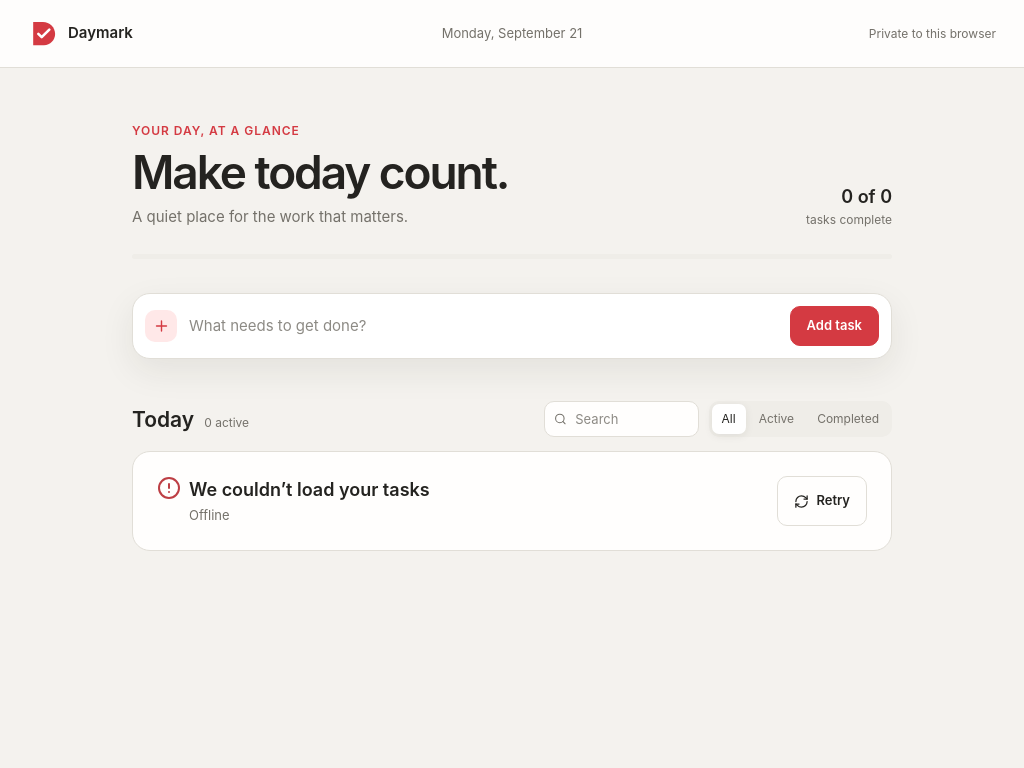
Test case: App › shows a recoverable load error and retries
The width and height of the screenshot is (1024, 768).
Expected: the message shows "Offline", [189,507,230,523]
Click the button "Retry". click: click(822, 501)
box: [777,476,867,526]
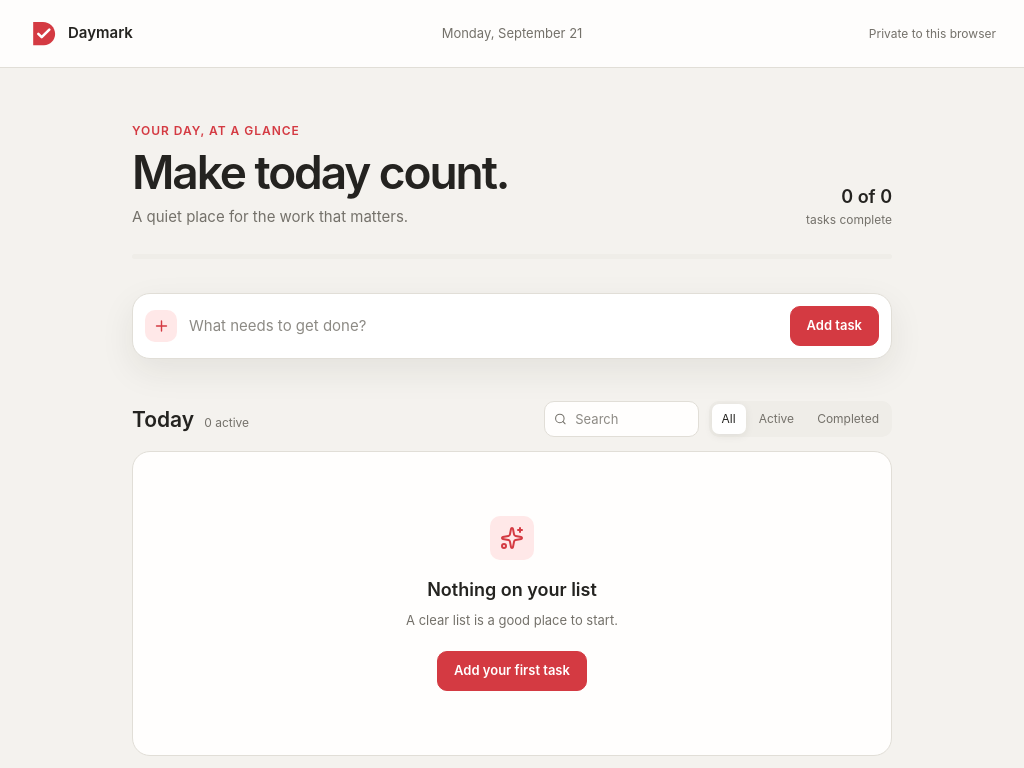
Result: the heading "Nothing on your list" is shown at [427,576,597,603]
